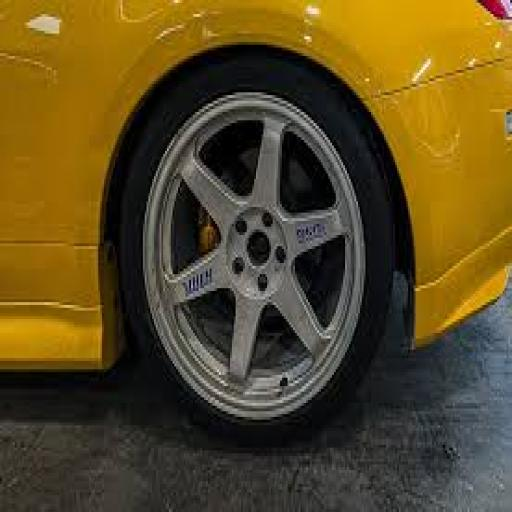wheel: (108, 40, 414, 465)
